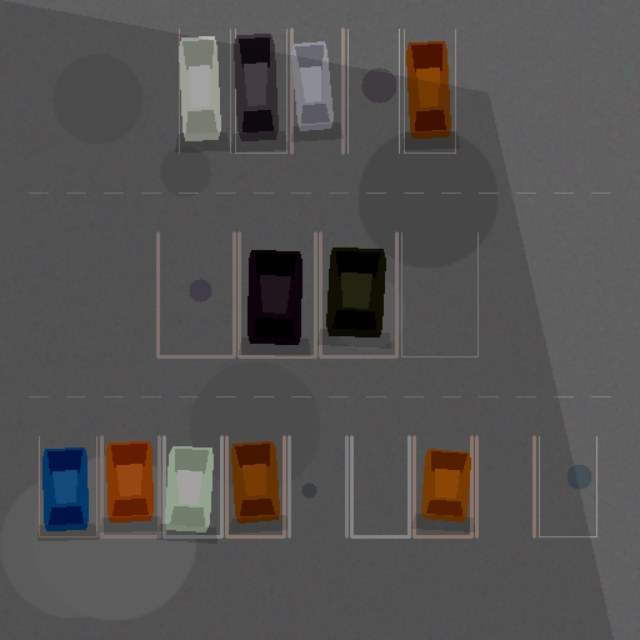space-empty: (157, 233, 234, 356), (401, 233, 477, 356), (348, 29, 399, 153), (351, 436, 409, 536), (476, 436, 534, 536), (289, 436, 346, 536), (539, 436, 596, 536)
space-occupied: (239, 233, 315, 356), (320, 233, 396, 356), (179, 29, 230, 153), (235, 29, 286, 153), (291, 29, 342, 153), (404, 29, 455, 153), (101, 436, 159, 536), (226, 436, 284, 536), (39, 436, 96, 536), (164, 436, 221, 536), (414, 436, 471, 536)
